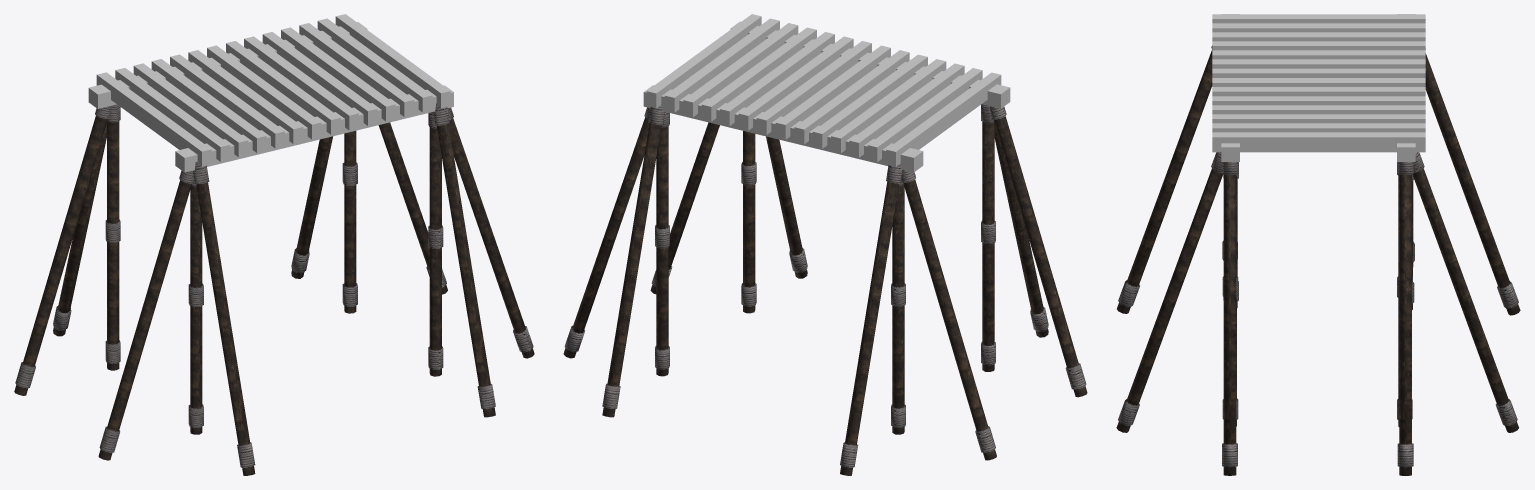
The model's file is Stick5.fbx.
The picture shows the model from 3 angles, left to right: view 1: azimuth 30°, elevation 25°; view 2: azimuth 150°, elevation 25°; view 3: azimuth 270°, elevation 25°; orthographic projection.
Parts seen in each view (by area): view 1: Cylinder.003; view 2: Cylinder.003; view 3: Cylinder.003.
Part boxes in pixels (<box>): Cylinder.003: <box>14,14,534,475</box>; Cylinder.003: <box>563,14,1087,475</box>; Cylinder.003: <box>1116,14,1520,475</box>.
Bounding box in the file's own units: 857 × 552 × 681.
